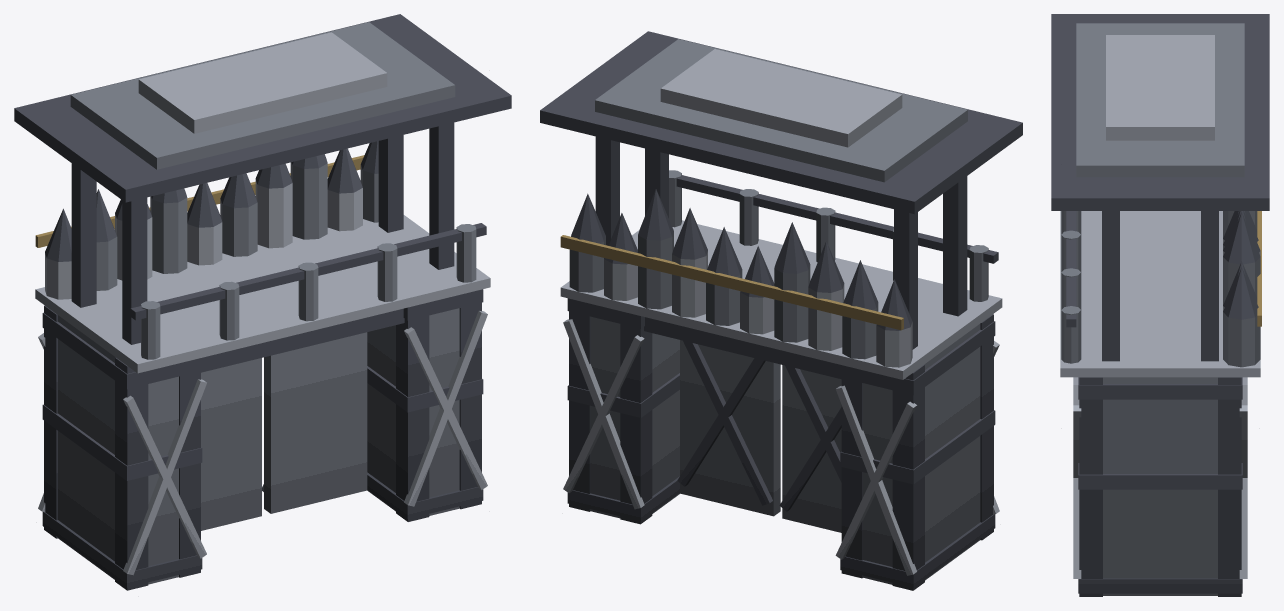
Rendered from perimeter_gate_metal.glb.
3 renders of one model, left to right at view 1: azimuth 30°, elevation 25°; view 2: azimuth 150°, elevation 25°; view 3: azimuth 270°, elevation 25°, orthographic. The views are drawn at different scales.
Bounding box in the file's own units: 4.4 × 4.8 × 2.2.
Materials: 1 (1 with a texture image).
